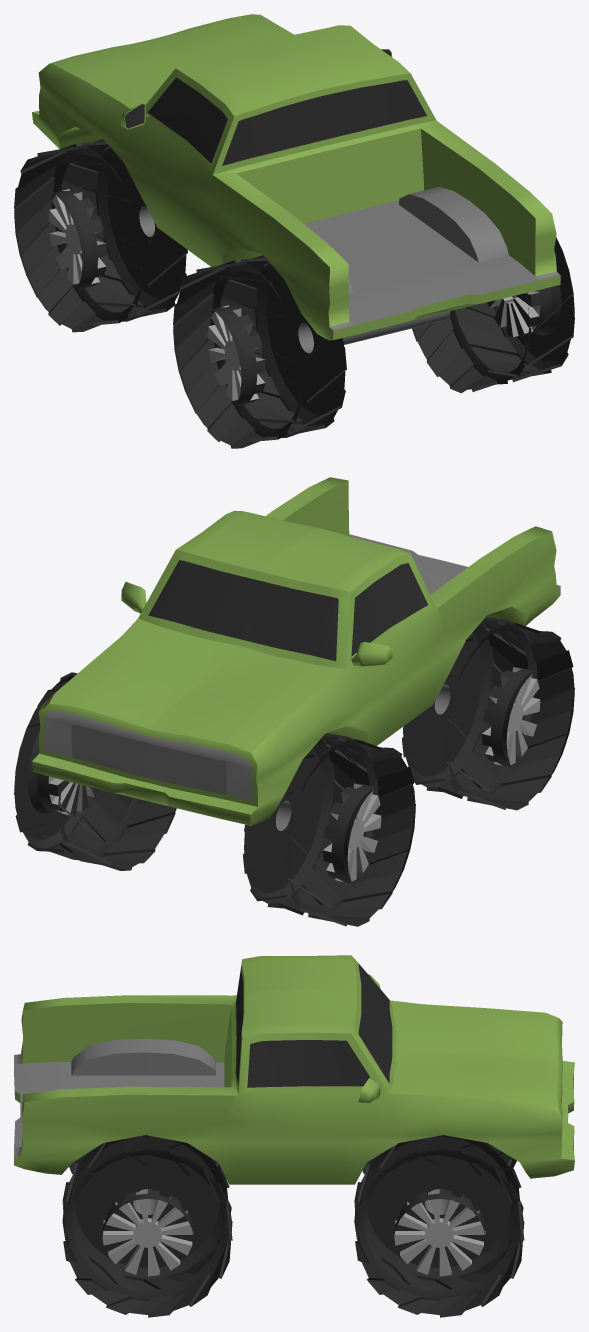
The model's file is monsterTruck.glb.
3 renders of one model, top to bottom at view 1: azimuth 30°, elevation 25°; view 2: azimuth 150°, elevation 25°; view 3: azimuth 270°, elevation 25°, orthographic. The views are drawn at different scales.
Visible parts, largest first — view 1: MonsterTruckBody, MonsterTruckTires2, MonsterTruckTires1; view 2: MonsterTruckBody, MonsterTruckTires1, MonsterTruckTires2; view 3: MonsterTruckBody, MonsterTruckTires1, MonsterTruckTires2.
Boxes of the visible parts, x1,y1,x2,y2 form: MonsterTruckBody: (32,14,560,340); MonsterTruckTires2: (173,237,574,448); MonsterTruckTires1: (14,139,187,332); MonsterTruckBody: (32,477,560,825); MonsterTruckTires1: (14,672,415,926); MonsterTruckTires2: (402,616,574,810); MonsterTruckBody: (14,955,574,1184); MonsterTruckTires1: (354,1135,524,1317); MonsterTruckTires2: (62,1135,232,1317).
Size of the model in its own units: 5.77 by 4.88 by 9.55.
